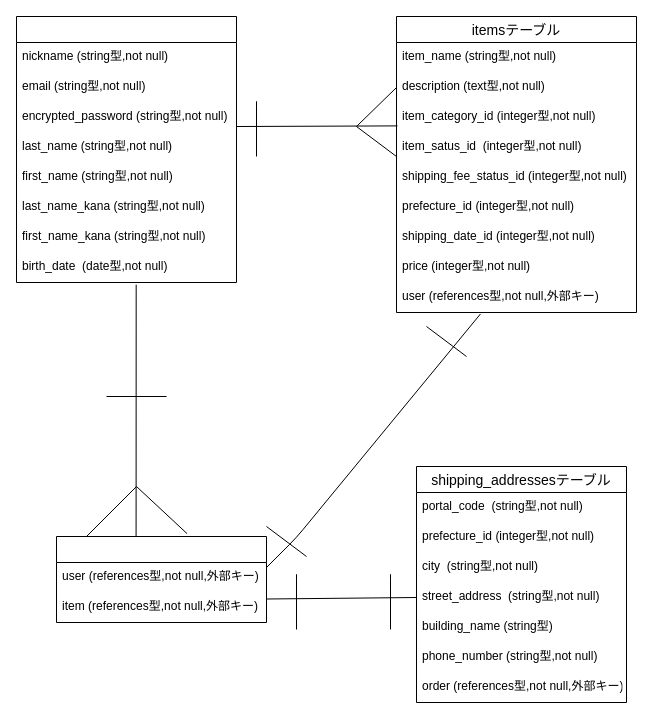
This 653x719 diagram has some shape labels left out. The box of each missing label's shape, as (x1, y1, x2, y2) in pixels:
ordersテーブル: (56, 536, 266, 622)
usersテーブル: (16, 16, 236, 282)
